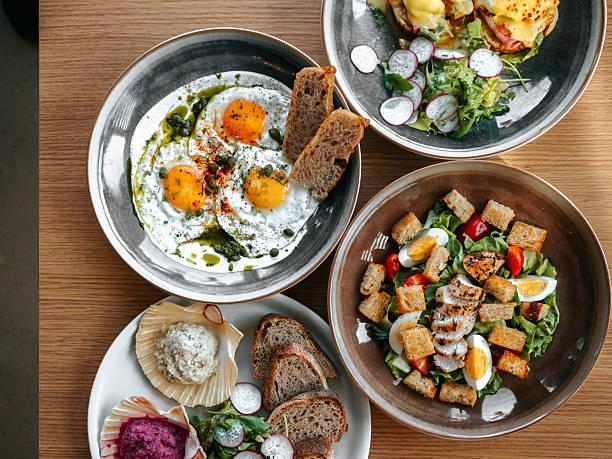Braised Crucian Carp: (331, 159, 604, 434), (87, 28, 351, 303), (87, 294, 362, 456), (323, 1, 599, 161)
